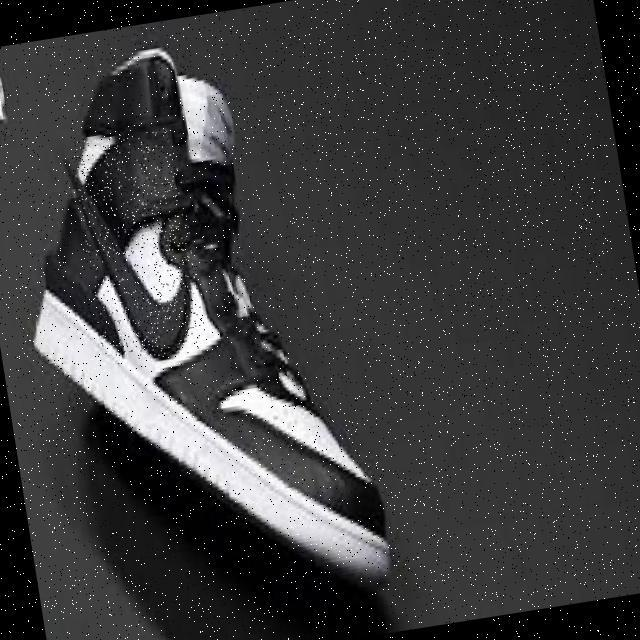Nike: (70, 127, 209, 366)
